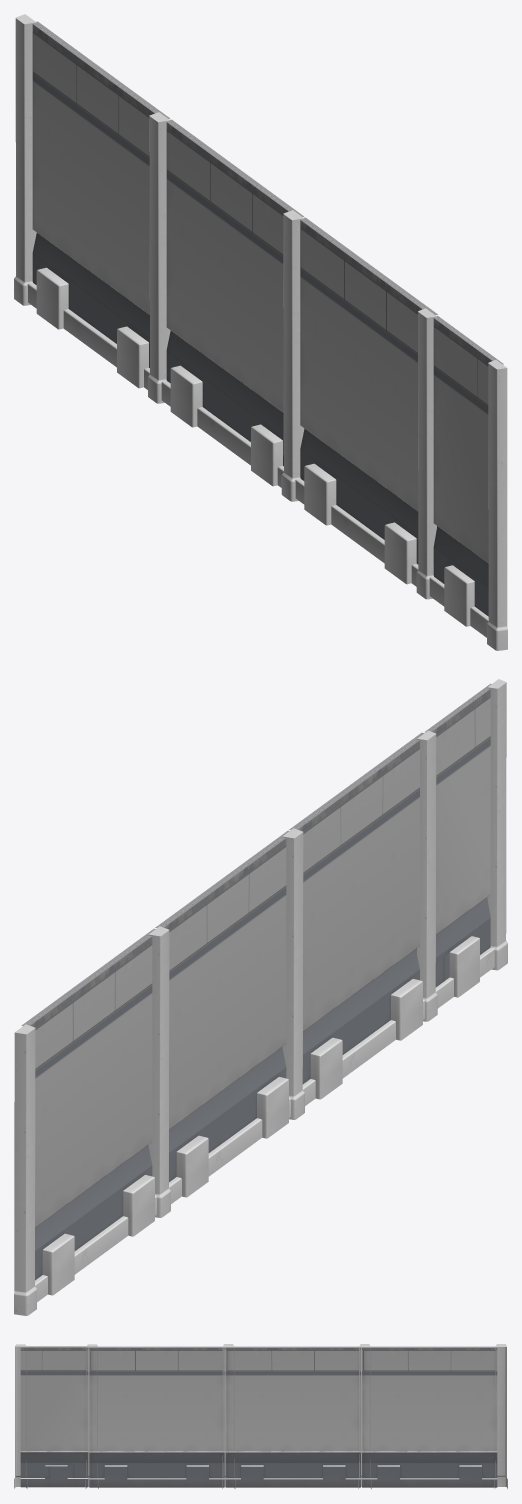
The model's file is Pfb_JALB_WallPart2_Line__27.fbx.
3 renders of one model, top to bottom at view 1: azimuth 30°, elevation 25°; view 2: azimuth 150°, elevation 25°; view 3: azimuth 270°, elevation 25°, orthographic. The views are drawn at different scales.
Visible parts, largest first — view 1: MAT_JLABWall; view 2: MAT_JLABWall; view 3: MAT_JLABWall.
Part boxes in pixels (box(x1,y1,x2,y2)): MAT_JLABWall: box(14, 14, 507, 650); MAT_JLABWall: box(14, 679, 507, 1315); MAT_JLABWall: box(14, 1344, 507, 1489).
Size of the model in its own units: 0.2509 by 4.04 by 12.64.
Materials: 1 (1 with a texture image).
